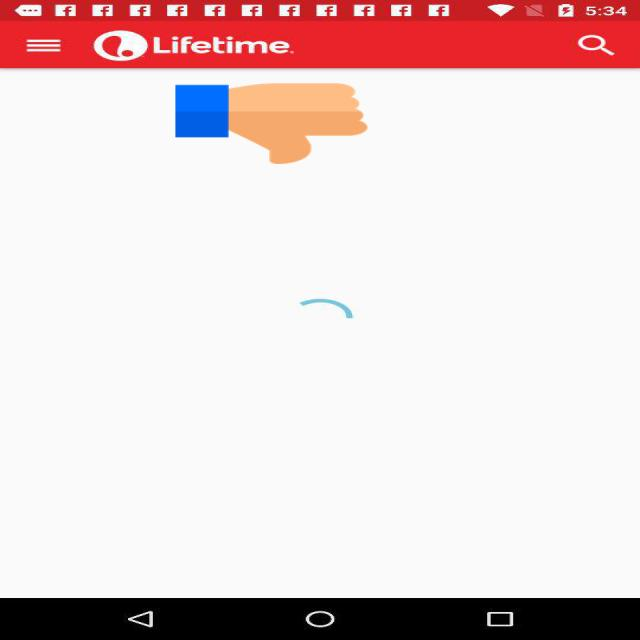obstruction: (175, 81, 368, 166)
